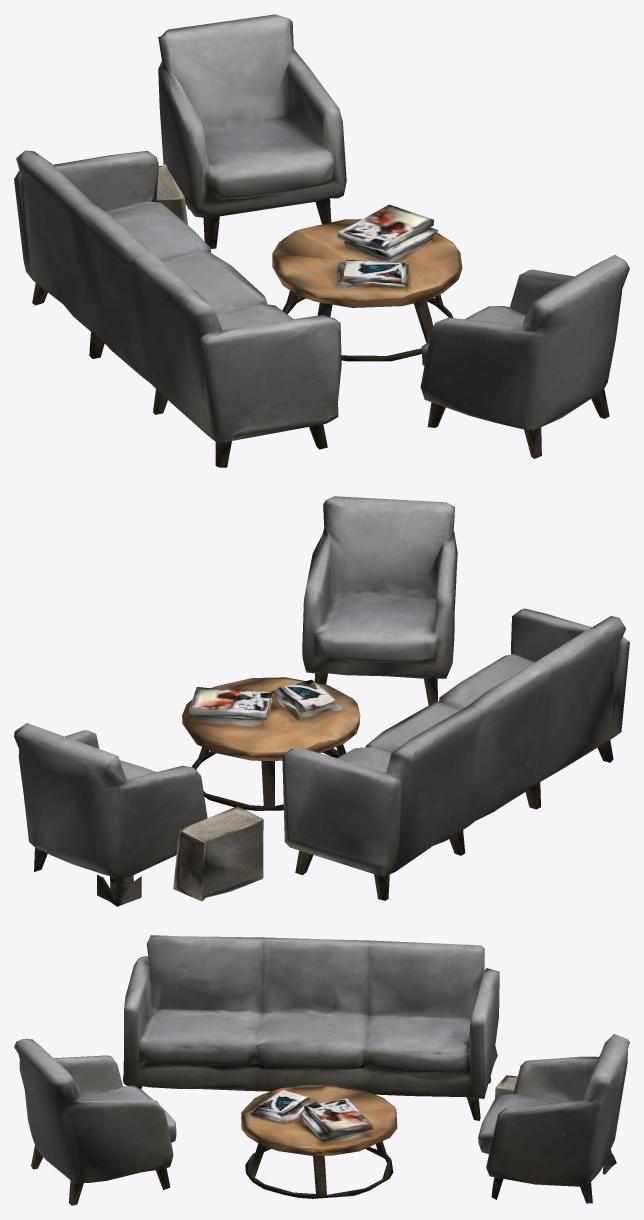
Rendered from innen_sofa.glb.
3 views of the same model, one above another, from view 1: azimuth 30°, elevation 25°; view 2: azimuth 150°, elevation 25°; view 3: azimuth 270°, elevation 25° (orthographic). The views are drawn at different scales.
Visible parts, largest first — view 1: tripo_node_daa2c03a-16c1-42f4-8bb2-6ea3c20f7044; view 2: tripo_node_daa2c03a-16c1-42f4-8bb2-6ea3c20f7044; view 3: tripo_node_daa2c03a-16c1-42f4-8bb2-6ea3c20f7044.
Part boxes in pixels (left/top/right/bottom): tripo_node_daa2c03a-16c1-42f4-8bb2-6ea3c20f7044: left=14, top=14, right=629, bottom=467; tripo_node_daa2c03a-16c1-42f4-8bb2-6ea3c20f7044: left=14, top=496, right=629, bottom=906; tripo_node_daa2c03a-16c1-42f4-8bb2-6ea3c20f7044: left=14, top=935, right=629, bottom=1205.
Bounding box in the file's own units: 0.5722 × 0.2345 × 1.
1 material, 1 textured.
